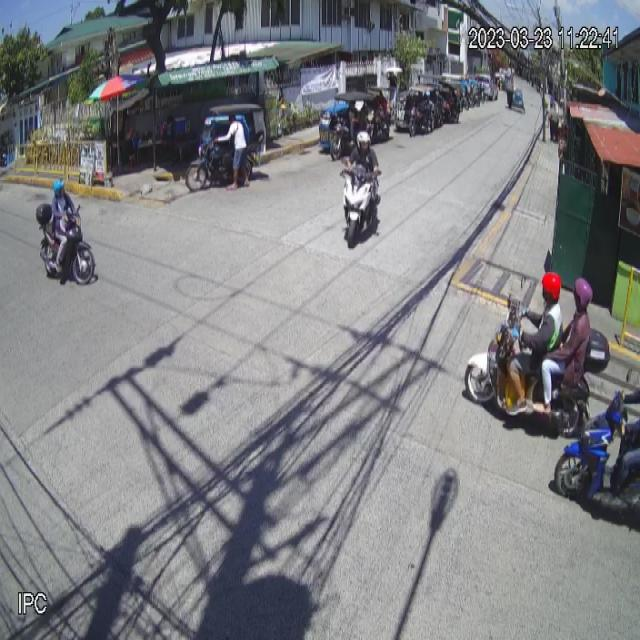Motorcycle: (462, 276, 610, 436), (36, 192, 96, 284), (338, 158, 382, 246)
